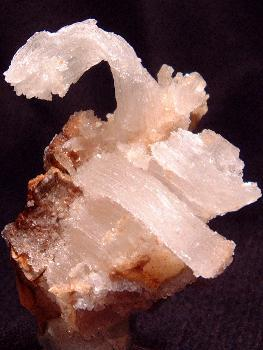gypsum: (4, 20, 261, 324)
